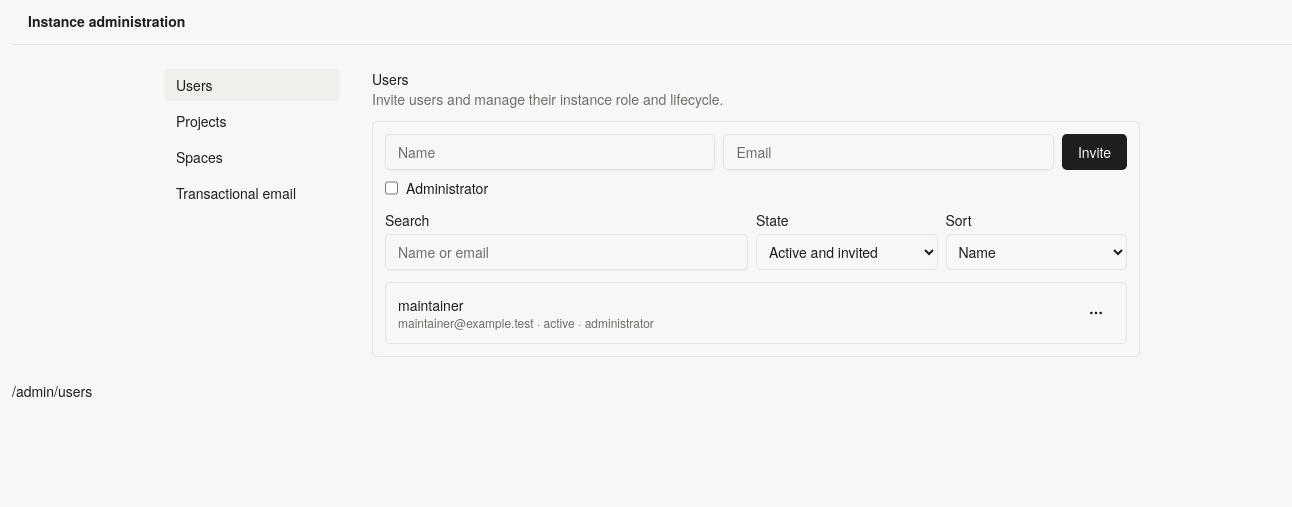
Test: shows an invited user without a reload of the page
Check: the text "maintainer@example.test · active · administrator" is shown, box 398,314 -> 654,331
Type "newcomer" into the field with placeholder "Name" at coordinates (550, 152), box 385,134 -> 716,170
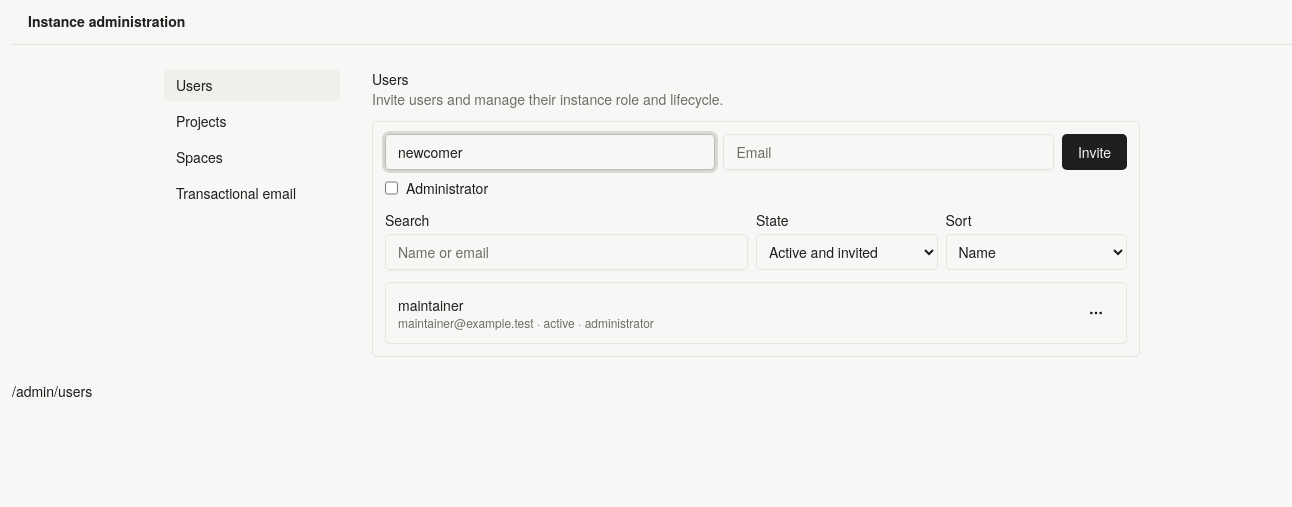
Type "newcomer@example.test" into the field labelled "Email" at coordinates (889, 152), box 724,134 -> 1054,170
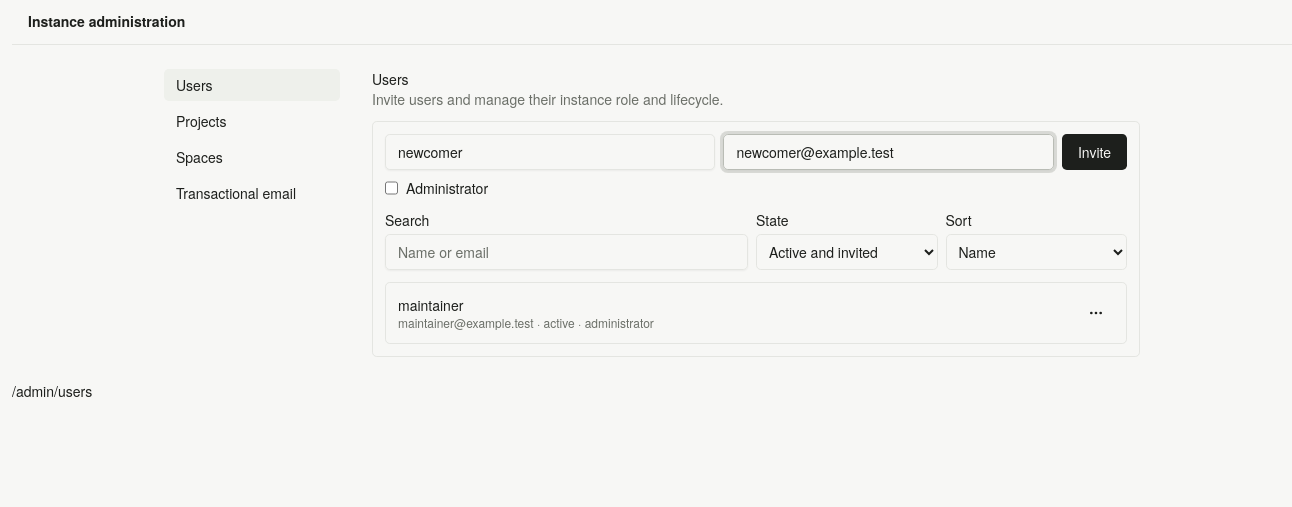
Click the button "Invite" at coordinates (1094, 152), box 1062,134 -> 1127,170
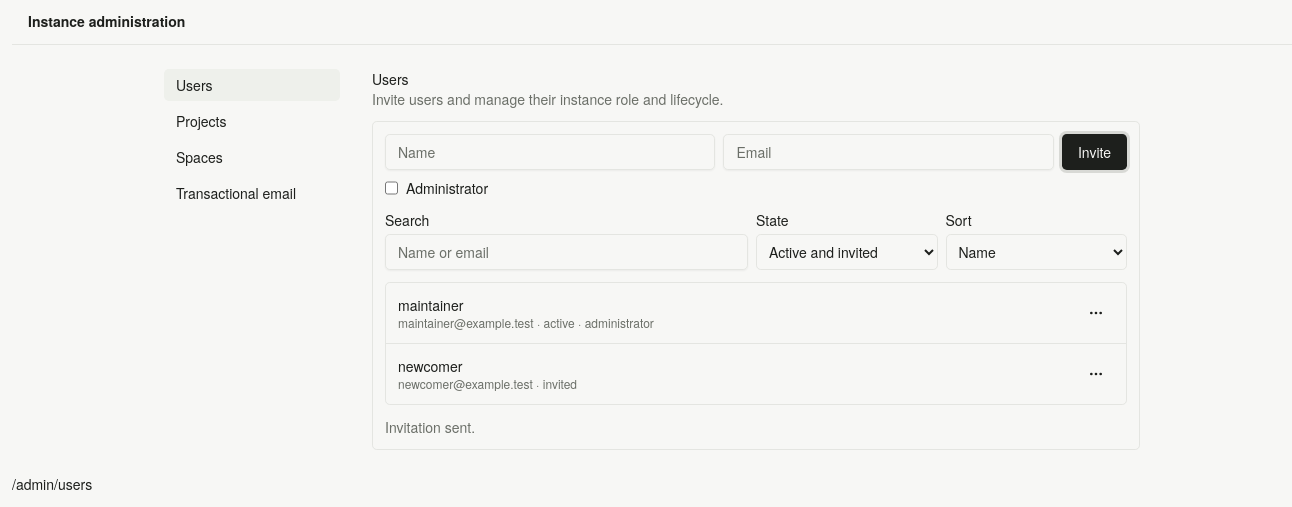
Check: the text "newcomer@example.test · invited" is shown, box 398,375 -> 577,392
Check: the field labelled "Name" is empty, box 385,134 -> 716,170
